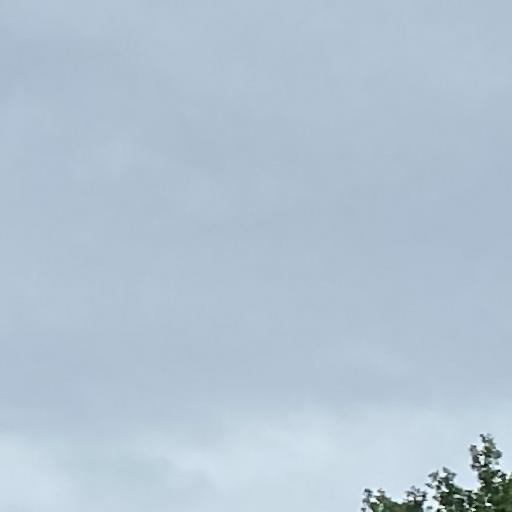tree: (361, 432, 512, 512)
